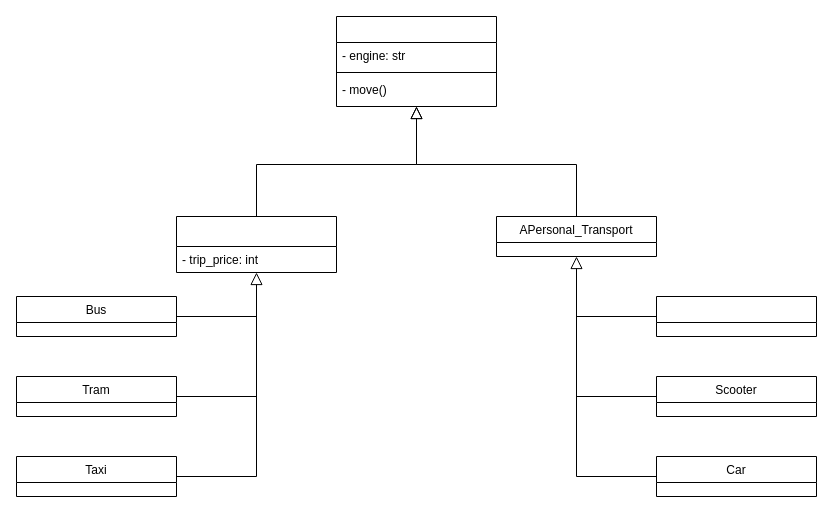
Some shapes in this 833 by 513 pixel diagram are drawn without their labels. Here are the shapes that lost their labels. From the top down, the box of each, then its label:
(336, 16, 496, 106): ATransport
(176, 216, 336, 272): APublic_Transport
(656, 296, 816, 336): Motorbike
